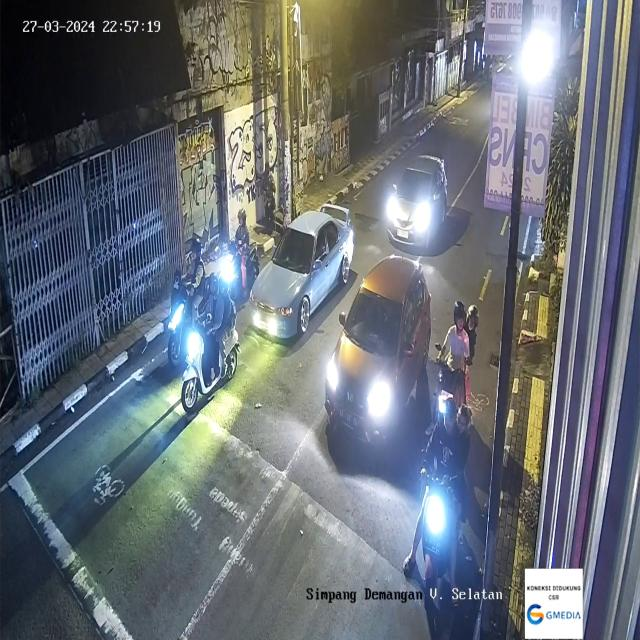car: (322, 262, 430, 445), (249, 204, 353, 340), (386, 154, 450, 258)
motorcycle: (417, 391, 470, 604), (181, 270, 240, 414), (435, 298, 480, 435), (170, 239, 210, 366), (220, 209, 260, 309)
